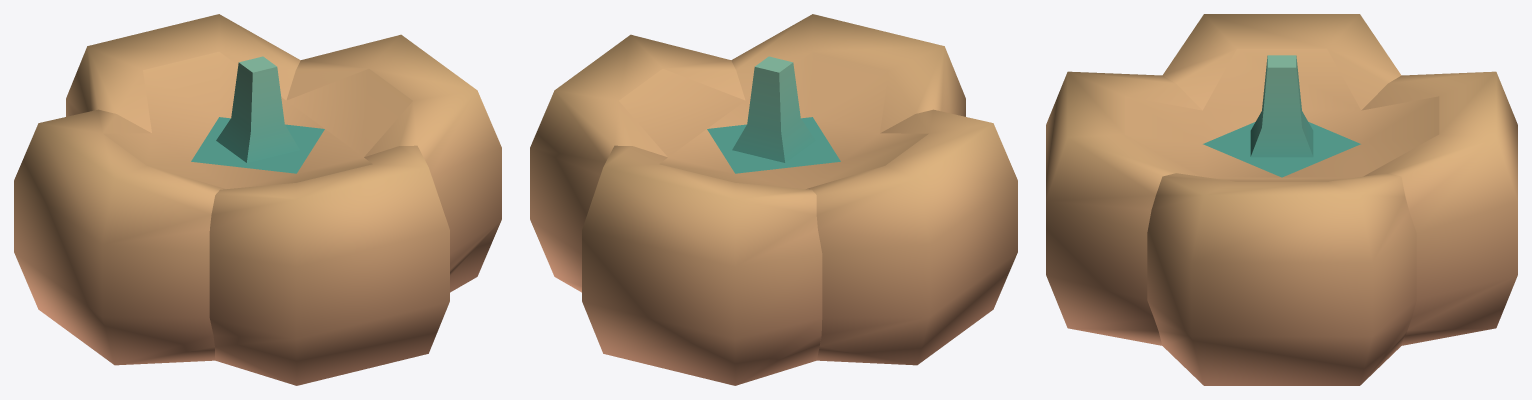
Rendered from pumpkin.glb.
3 views of the same model, side by side, from view 1: azimuth 30°, elevation 25°; view 2: azimuth 150°, elevation 25°; view 3: azimuth 270°, elevation 25° (orthographic). The views are drawn at different scales.
Parts seen in each view (by area): view 1: pumpkin; view 2: pumpkin; view 3: pumpkin.
Part boxes in pixels (box(x1,y1,x2,y2)): pumpkin: box(14, 14, 501, 385); pumpkin: box(530, 14, 1017, 385); pumpkin: box(1046, 14, 1517, 385).
Bounding box in the file's own units: 0.4189 × 0.2291 × 0.4189.
